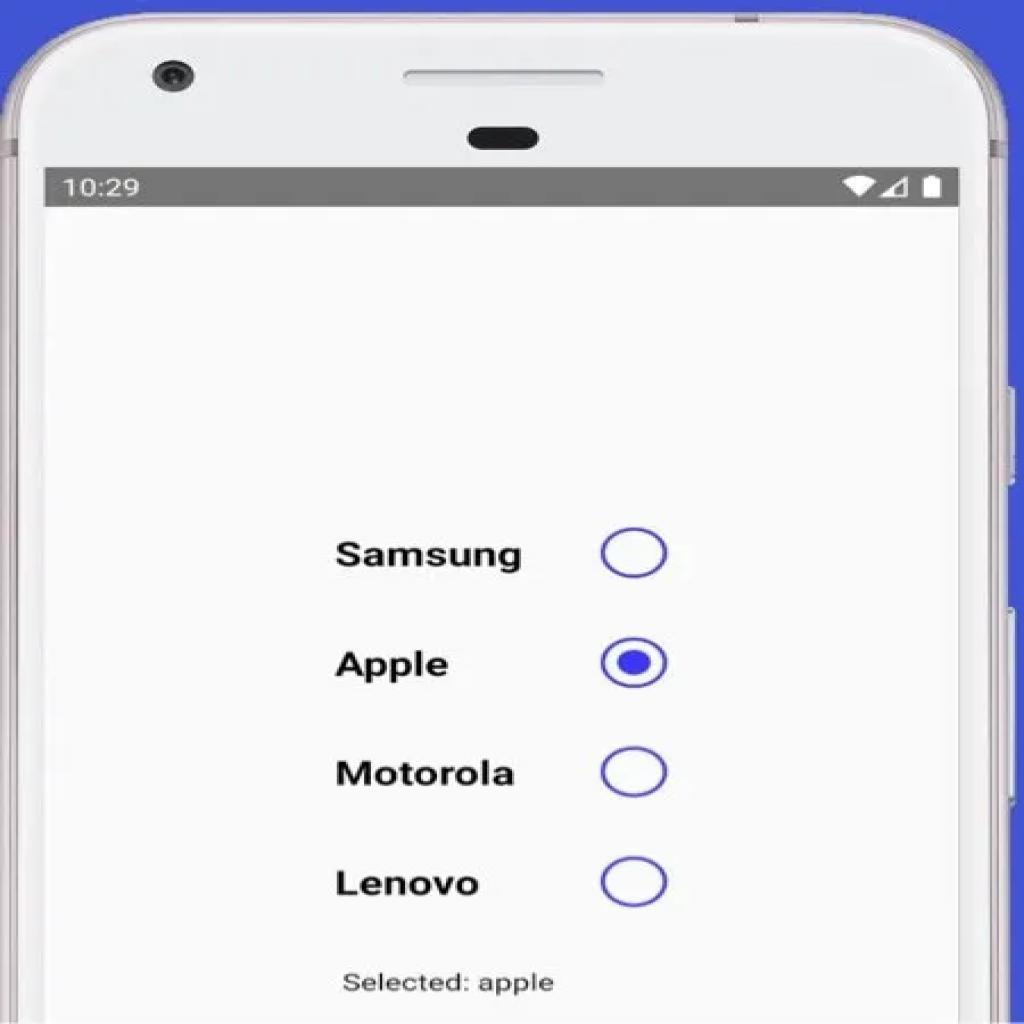radio: (598, 741, 673, 808), (596, 525, 675, 585), (596, 636, 679, 690), (602, 854, 673, 913)
